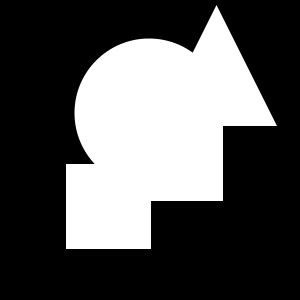circle: (99, 77, 223, 201), (66, 164, 151, 249)
rectangle: (74, 38, 224, 188)
triangle: (156, 5, 277, 126)
